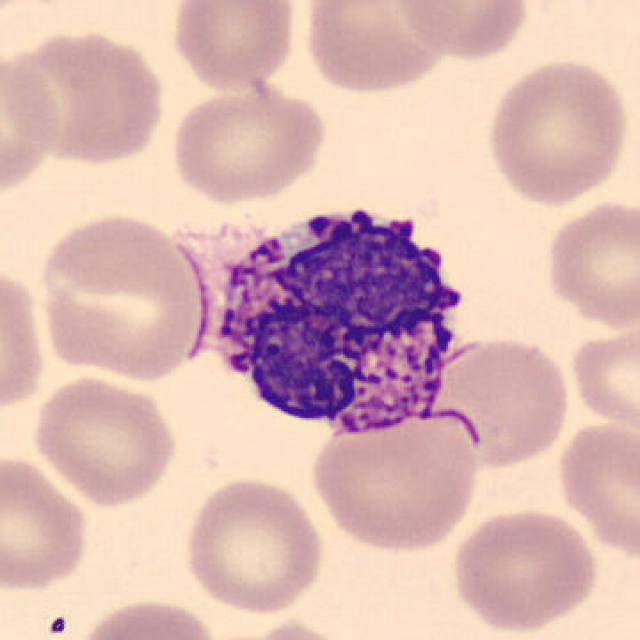Basophil: (190, 187, 486, 446)
Platelets: (44, 614, 70, 638)
RBC: (32, 208, 213, 384), (306, 402, 485, 557), (5, 24, 171, 168), (482, 53, 633, 208), (179, 473, 329, 617), (165, 78, 329, 206), (27, 372, 181, 508), (446, 502, 603, 634), (436, 331, 574, 469), (299, 0, 462, 97), (540, 196, 638, 332), (0, 451, 92, 594), (551, 416, 638, 563), (167, 0, 301, 92), (0, 44, 66, 203), (389, 0, 535, 63), (0, 259, 50, 422), (566, 321, 638, 430), (73, 594, 224, 640), (224, 617, 361, 640)
